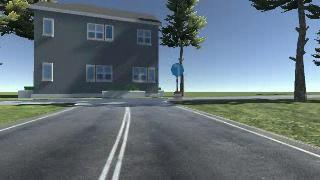turn_left: (171, 63, 184, 76)
